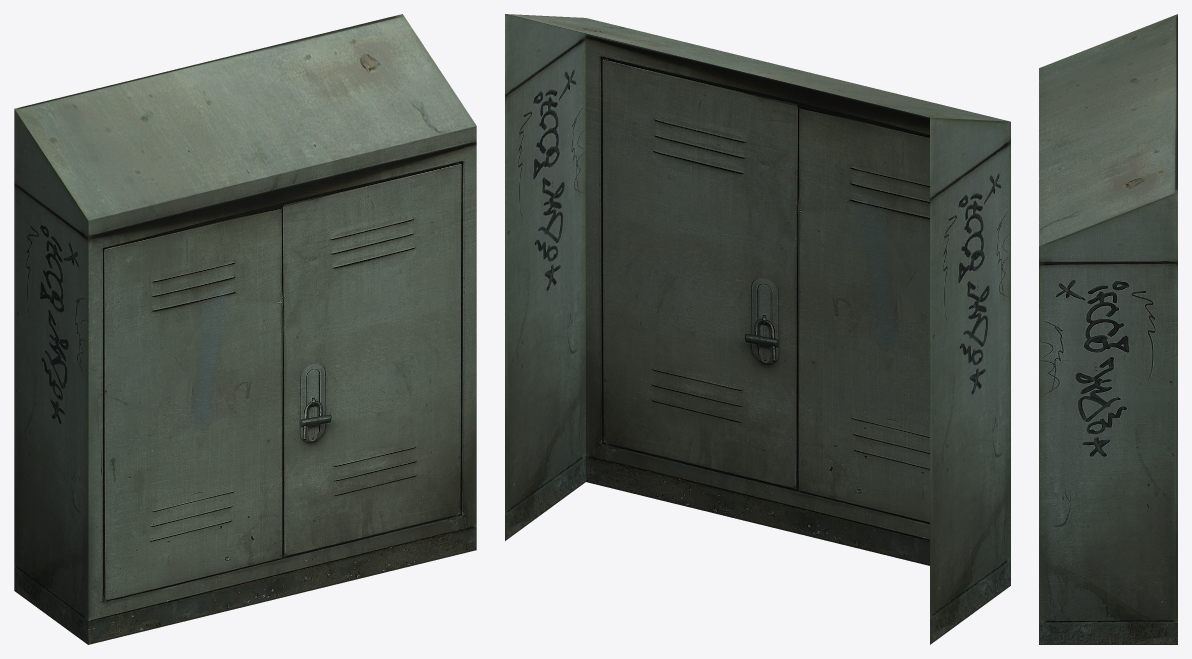
The model's file is Electric_box_v1.FBX.
3 renders of one model, left to right at view 1: azimuth 30°, elevation 25°; view 2: azimuth 150°, elevation 25°; view 3: azimuth 270°, elevation 25°, orthographic. The views are drawn at different scales.
Visible parts, largest first — view 1: Electric_box_v1; view 2: Electric_box_v1; view 3: Electric_box_v1.
Boxes of the visible parts, box(x1,y1,x2,y2) form: Electric_box_v1: box(14, 14, 476, 644); Electric_box_v1: box(505, 14, 1010, 644); Electric_box_v1: box(1039, 14, 1177, 644).
Size of the model in its own units: 1.21 by 1.44 by 0.3996.
